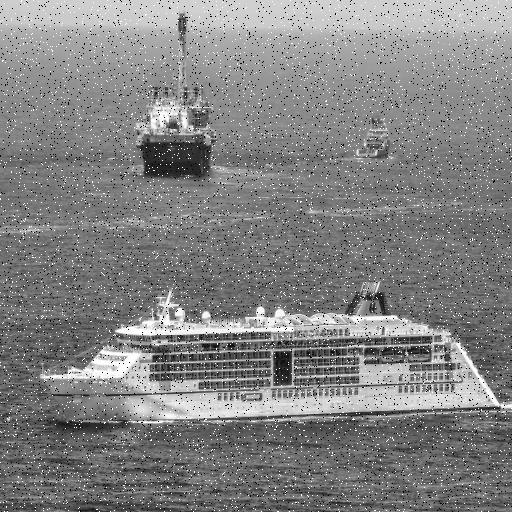cruises: (36, 274, 501, 429)
